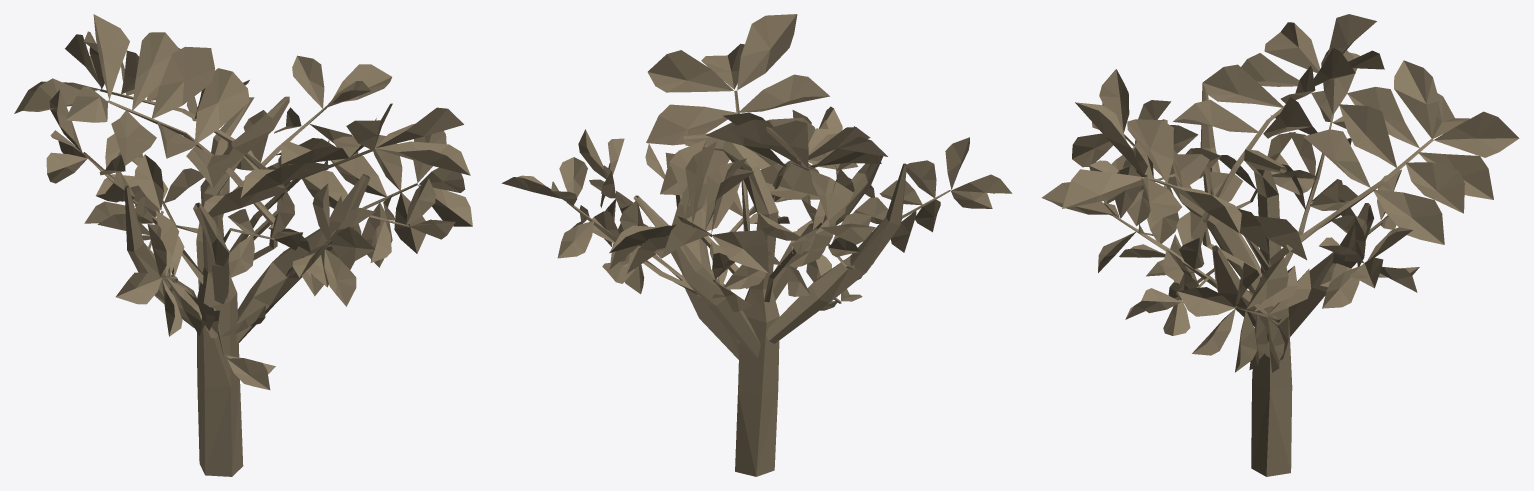
The model's file is Peach_6_1.fbx.
3 renders of one model, left to right at view 1: azimuth 30°, elevation 25°; view 2: azimuth 150°, elevation 25°; view 3: azimuth 270°, elevation 25°, orthographic. The views are drawn at different scales.
Parts seen in each view (by area): view 1: Peach_6_1; view 2: Peach_6_1; view 3: Peach_6_1.
Part boxes in pixels (x1,y1,x2,y2): Peach_6_1: (14, 14, 472, 476); Peach_6_1: (501, 14, 1012, 476); Peach_6_1: (1041, 14, 1519, 476).
Bounding box in the file's own units: 419 × 414 × 433.
